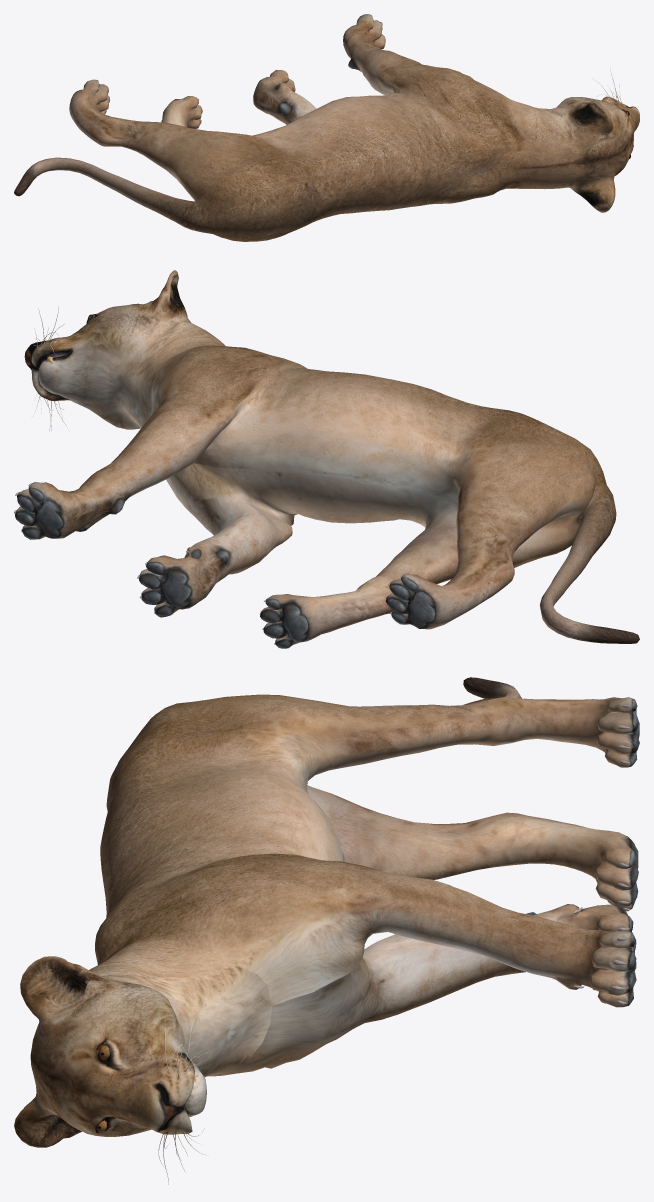
The model's file is lioness_v01_part_01.obj.
The picture shows the model from 3 angles, top to bottom: view 1: azimuth 30°, elevation 25°; view 2: azimuth 150°, elevation 25°; view 3: azimuth 270°, elevation 25°; orthographic projection. The views are drawn at different scales.
Visible parts, largest first — view 1: lioness_v01_part_01; view 2: lioness_v01_part_01; view 3: lioness_v01_part_01.
Part boxes in pixels (x1=…): lioness_v01_part_01: x1=14, y1=14, x2=639, y2=241; lioness_v01_part_01: x1=14, y1=270, x2=639, y2=648; lioness_v01_part_01: x1=14, y1=677, x2=639, y2=1184.
Bounding box in the file's own units: 1.73 × 0.3535 × 1.
Materials: 1 (1 with a texture image).
